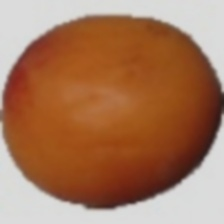apricot: (23, 59, 224, 194)
